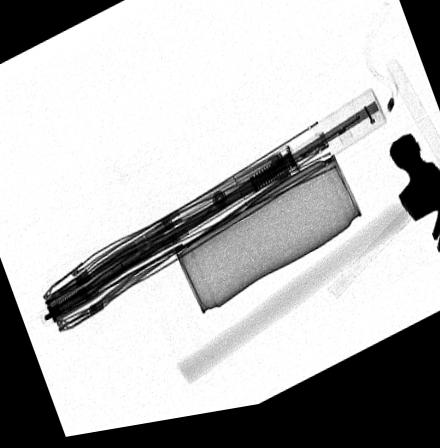Hammer: (175, 149, 440, 392)
